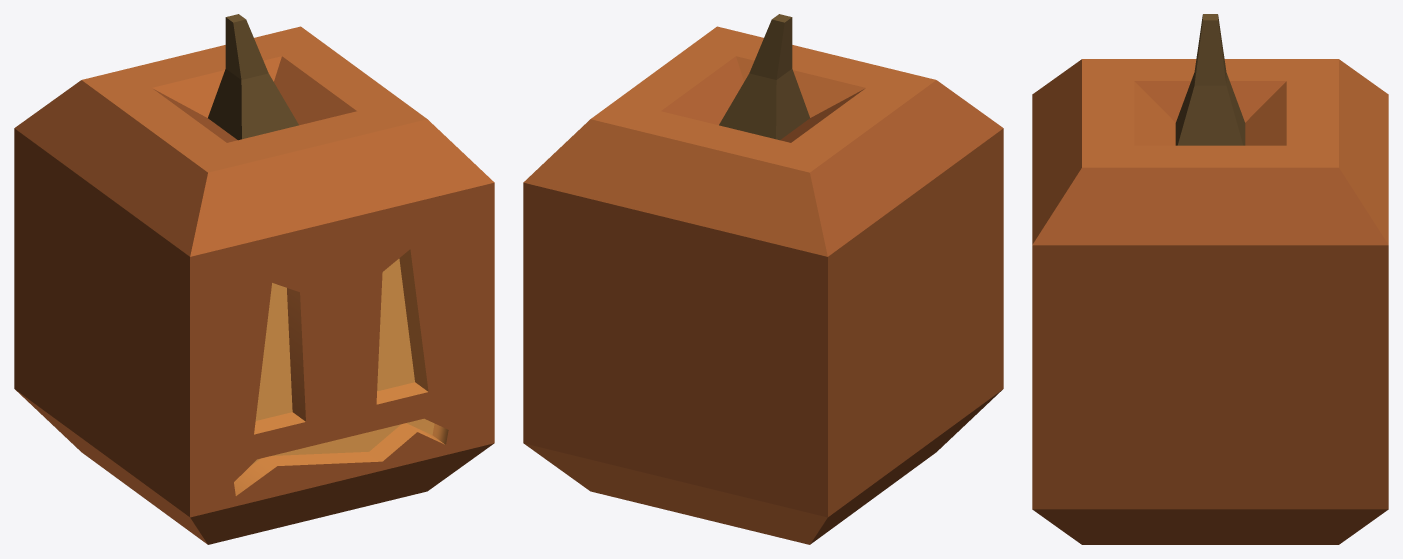
File: SC_Halloween_Pumpkin_06.fbx
3 views of the same model, side by side, from view 1: azimuth 30°, elevation 25°; view 2: azimuth 150°, elevation 25°; view 3: azimuth 270°, elevation 25° (orthographic).
Parts seen in each view (by area): view 1: SC_Halloween_Pumpkin_06; view 2: SC_Halloween_Pumpkin_06; view 3: SC_Halloween_Pumpkin_06.
Boxes of the visible parts, left/top/right/bottom form: SC_Halloween_Pumpkin_06: left=14, top=14, right=494, bottom=544; SC_Halloween_Pumpkin_06: left=523, top=14, right=1003, bottom=544; SC_Halloween_Pumpkin_06: left=1032, top=14, right=1388, bottom=544.
Bounding box in the file's own units: 0.7018 × 1.01 × 0.7018.
